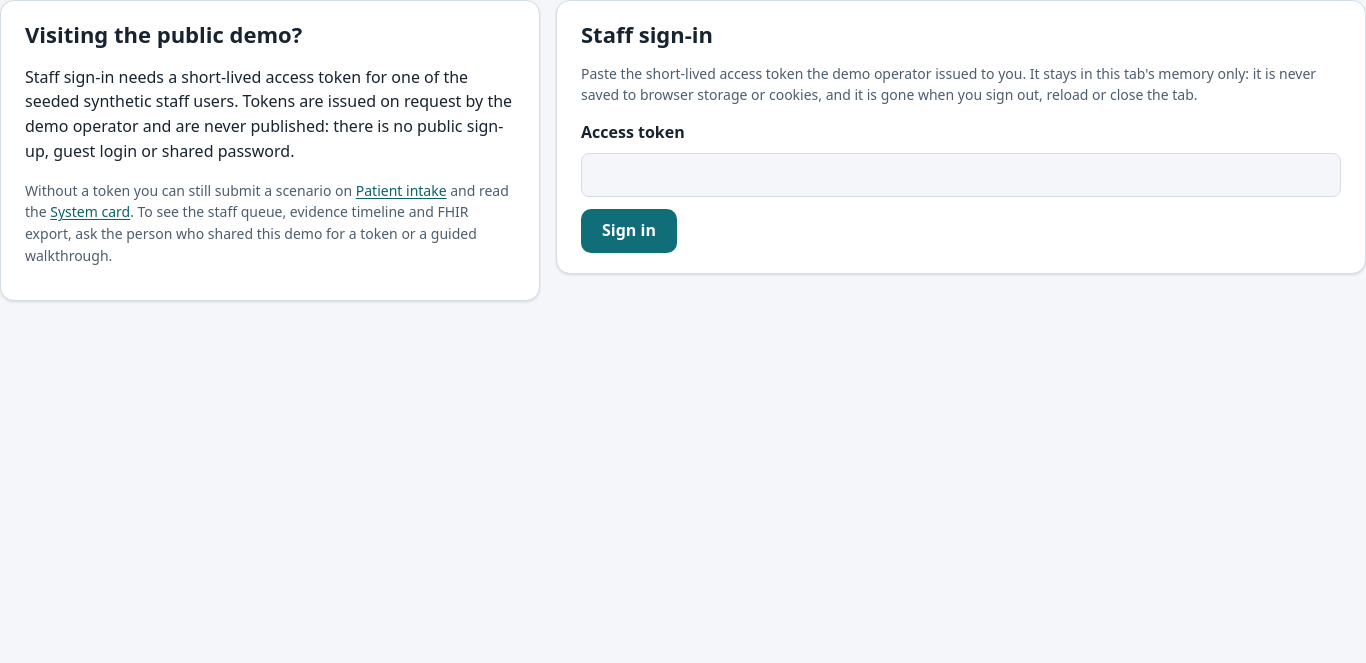
Test: StaffReview detail and transitions › shows a transition error and keeps the intake transitionable
The width and height of the screenshot is (1366, 663).
Type "v1.payload.signature" into the password field labelled "Access token" at (961, 175), box [581,153,1341,197]
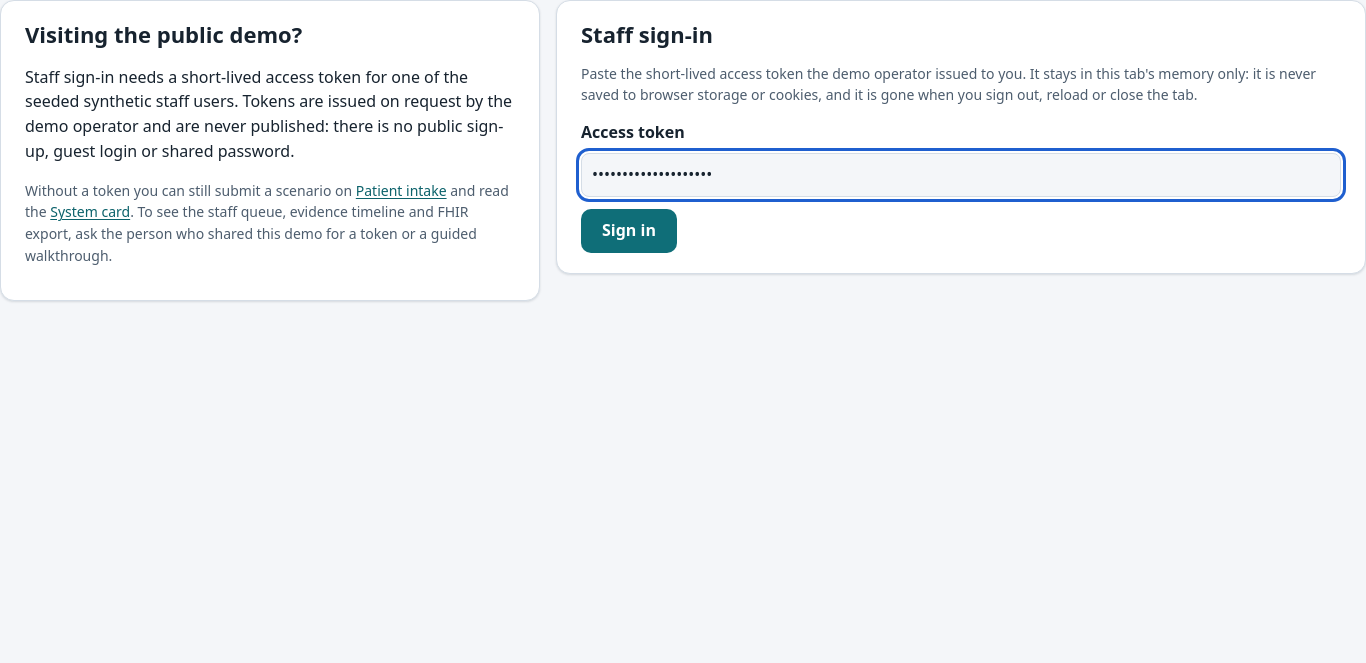
Click the button "Sign in" at (629, 231), box [581,209,677,253]
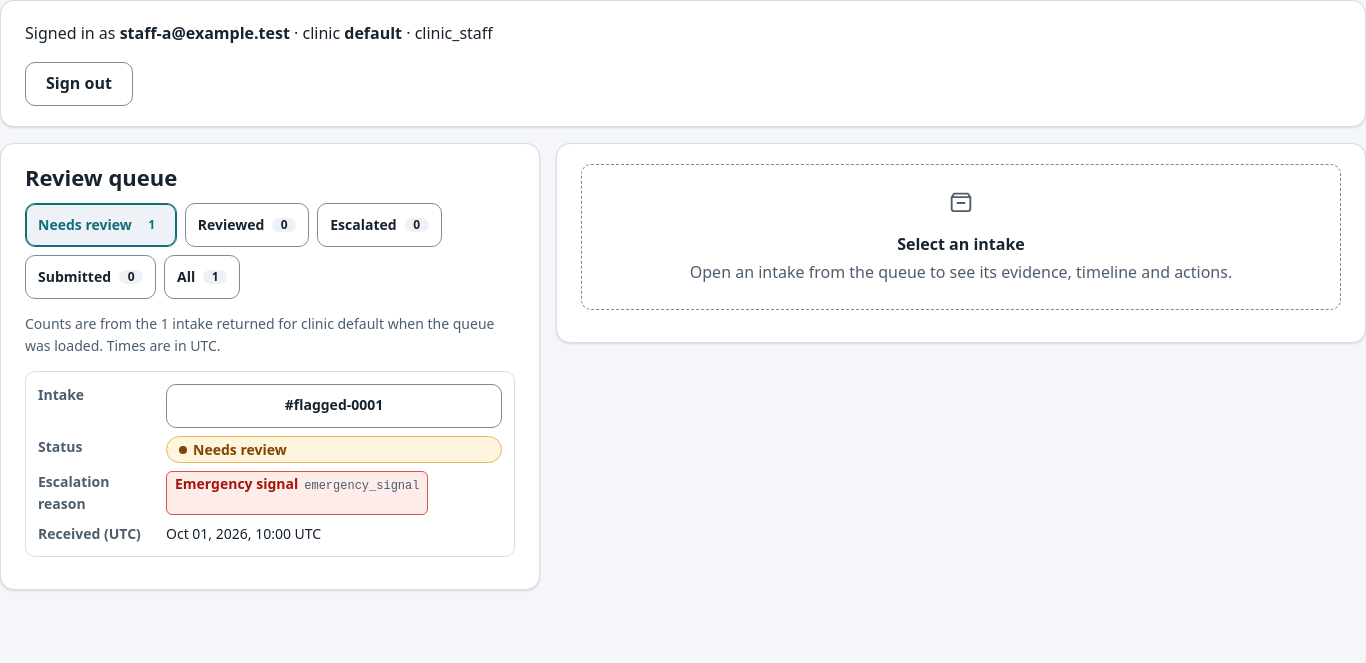
Click the button with aria-label "Open " at (334, 406), box [166,384,502,428]
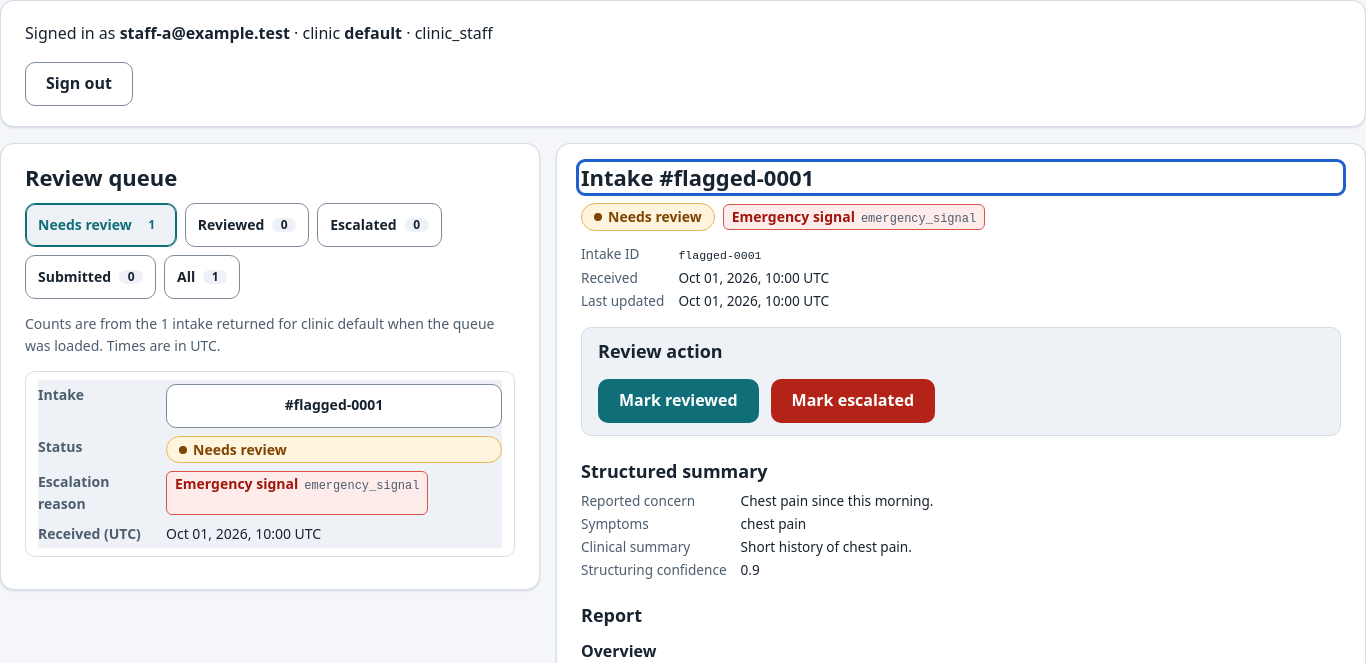
Click the button "Mark reviewed" at (678, 400), box [598,378,759,422]
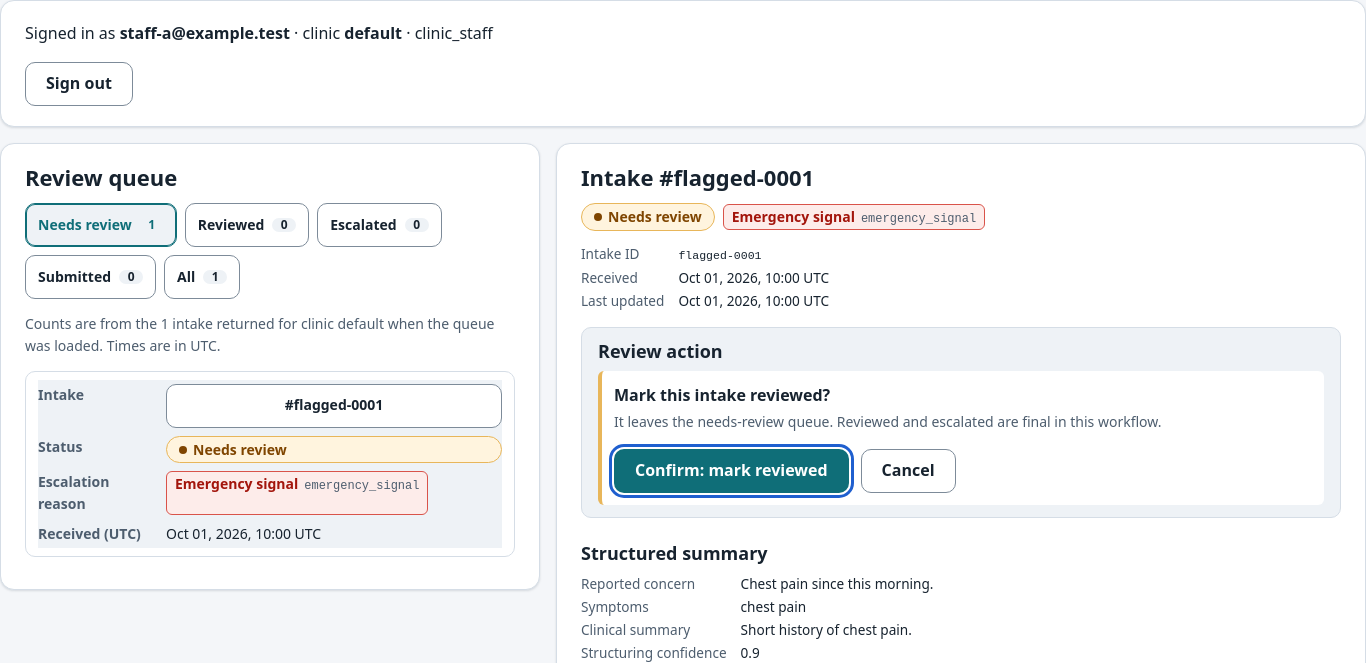
Click the button "Confirm: mark reviewed" at (731, 471), box [614,449,849,493]
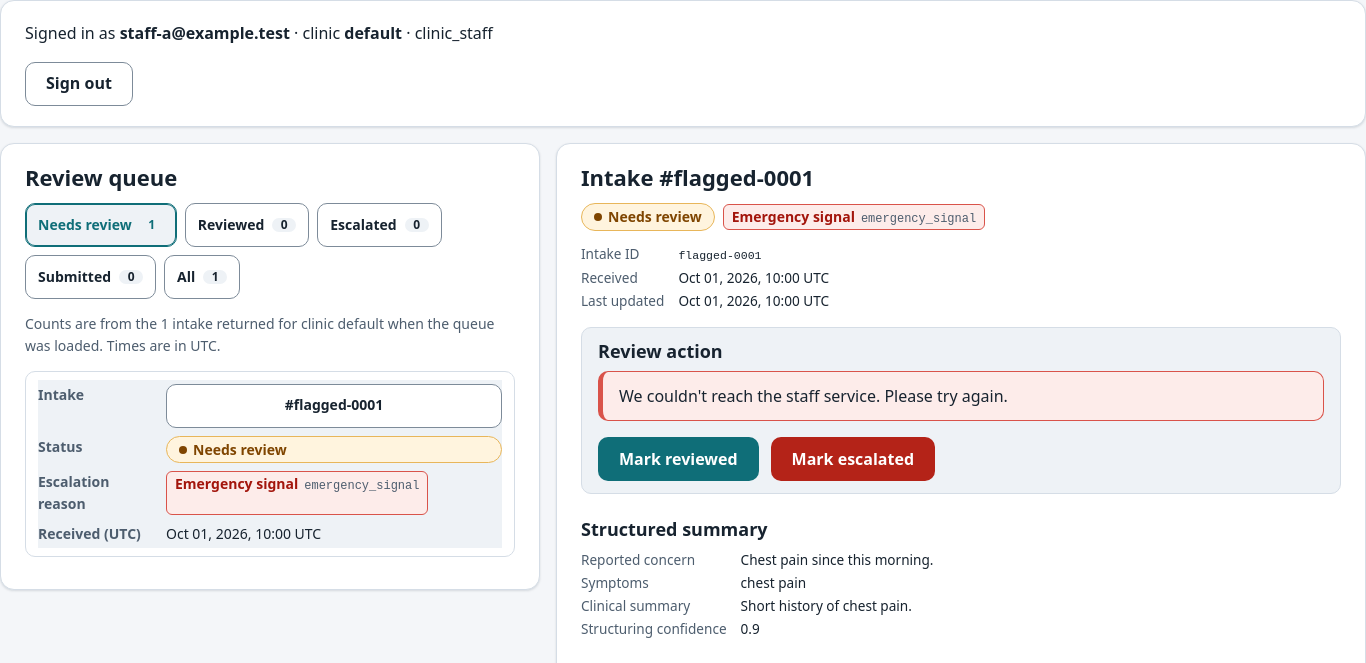
Result: the element with test id "detail-status" shows "Needs review" at [608,207,702,226]
Result: the button "Mark reviewed" is enabled at [598,437,759,481]
Result: the message reads "We couldn't reach the staff service. Please try again." at [619,384,1008,406]
